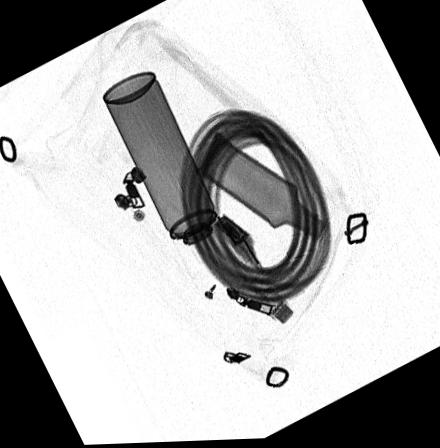Sprayer: (101, 73, 235, 283)
